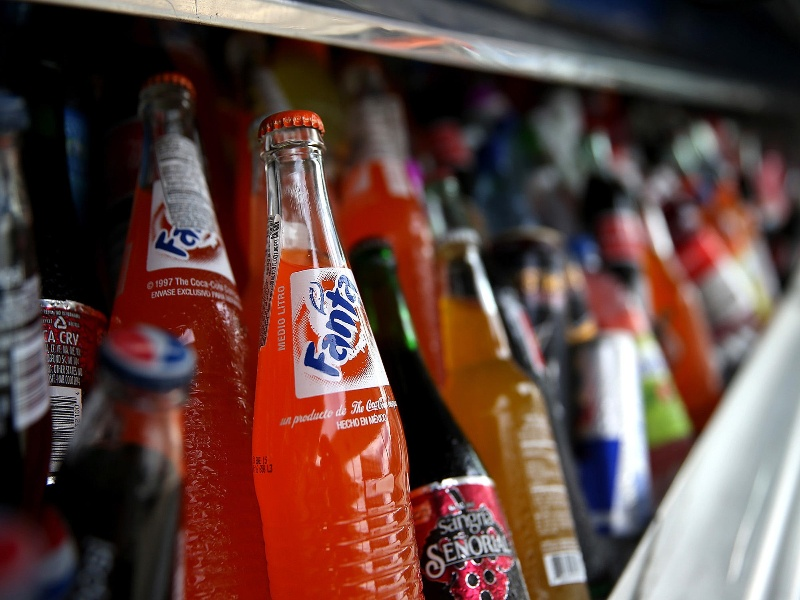Glass bottle: (201, 69, 433, 595), (87, 73, 301, 584), (313, 210, 553, 600), (406, 206, 608, 588), (11, 267, 204, 579)
